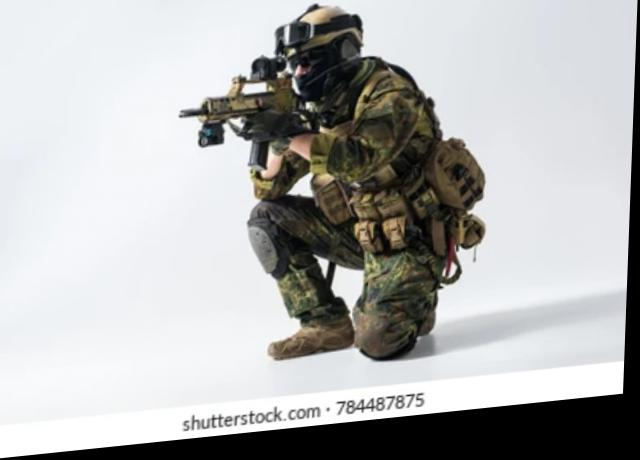other: (187, 0, 484, 390)
